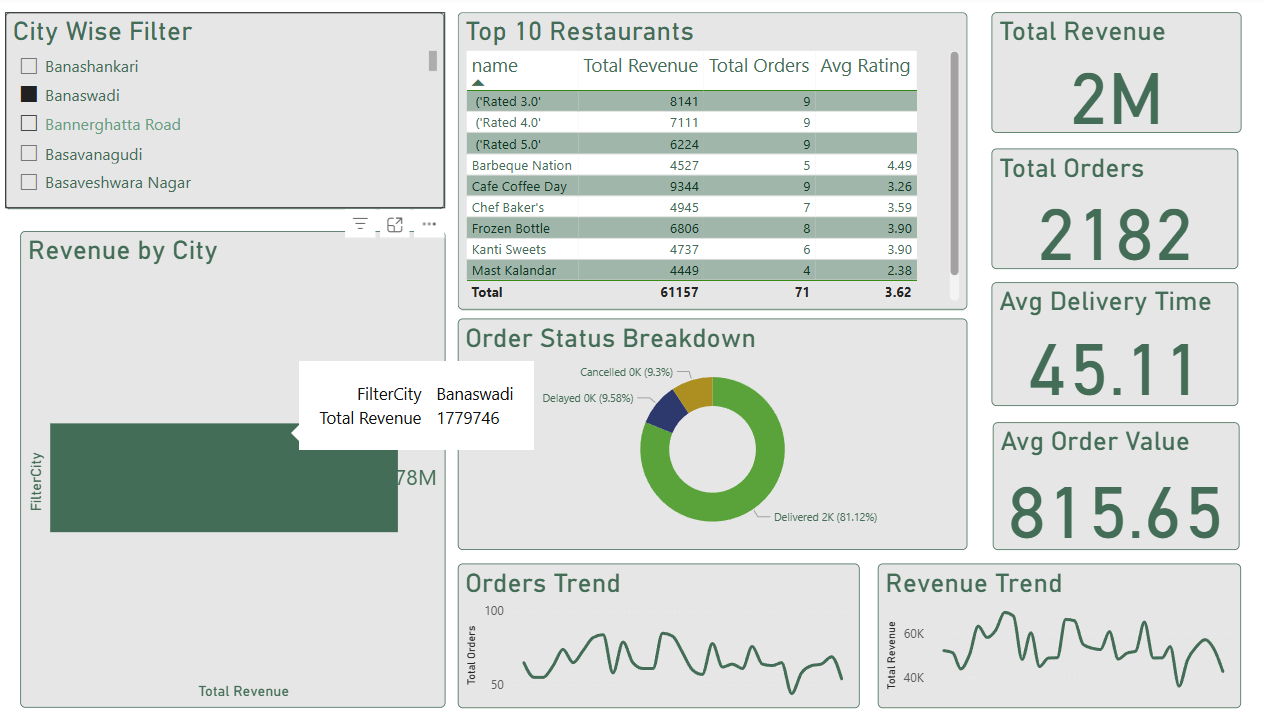

The dashboard page shown, as its layout file describes it:
{"tool":"powerbi","page":{"name":"Executive Overview","canvas":[1280,720],"ordinal":0},"visuals":[{"type":"card","title":"Total Revenue","fields":{"Values":["Orders.Total Revenue"]},"box":[992.9,15.7,248.6,120],"z":0},{"type":"card","title":"Total Orders","fields":{"Values":["Orders.Total Orders"]},"box":[992.9,151.4,245.7,120],"z":1000},{"type":"card","title":"Avg Order Value","fields":{"Values":["Orders.Avg Order Value"]},"box":[994.3,424.3,245.7,127.1],"z":2000},{"type":"card","title":"Avg Delivery Time","fields":{"Values":["Orders.Avg Delivery Time"]},"box":[992.9,284.3,245.7,122.9],"z":3000},{"type":"lineChart","title":"Revenue Trend","fields":{"Y":["Orders.Total Revenue"],"Category":["DateTable.Date.Variation.Date Hierarchy.Year","DateTable.Date.Variation.Date Hierarchy.Month"]},"box":[880,564.3,361.4,144.3],"z":4000},{"type":"lineChart","title":"Orders Trend","fields":{"Y":["Orders.Total Orders"],"Category":["DateTable.Date.Variation.Date Hierarchy.Year","DateTable.Date.Variation.Date Hierarchy.Month"]},"box":[461.4,564.3,400,144.3],"z":5000},{"type":"barChart","title":"Revenue by City","fields":{"Category":["Customers.FilterCity"],"Y":["Orders.Total Revenue"]},"box":[25.7,234.3,422.9,474.3],"z":6000},{"type":"donutChart","title":"Order Status Breakdown","fields":{"Category":["Orders.OrderStatus"],"Y":["Orders.Total Orders"]},"box":[461.4,321.4,507.1,230],"z":7000},{"type":"tableEx","title":"Top 10 Restaurants","fields":{"Values":["Restaurants.name","Orders.Total Revenue","Orders.Total Orders","Orders.Avg Rating"]},"box":[461.4,15.7,507.1,295.7],"z":8000},{"type":"slicer","title":"City Wise Filter ","fields":{"Values":["Customers.FilterCity"]},"box":[11.4,15.7,437.1,195.7],"z":9000}]}

Visuals, with their boxes in screenshot pixels (x1, y1, x2, y2), scaled from the page's 1280x720 canvas onto the 1264x714 screenshot:
"Total Revenue" card: select_region(980, 16, 1226, 135)
"Total Orders" card: select_region(980, 150, 1223, 269)
"Avg Order Value" card: select_region(982, 421, 1224, 547)
"Avg Delivery Time" card: select_region(980, 282, 1223, 404)
"Revenue Trend" lineChart: select_region(869, 560, 1226, 703)
"Orders Trend" lineChart: select_region(456, 560, 851, 703)
"Revenue by City" barChart: select_region(25, 232, 443, 703)
"Order Status Breakdown" donutChart: select_region(456, 319, 956, 547)
"Top 10 Restaurants" tableEx: select_region(456, 16, 956, 309)
"City Wise Filter " slicer: select_region(11, 16, 443, 210)
